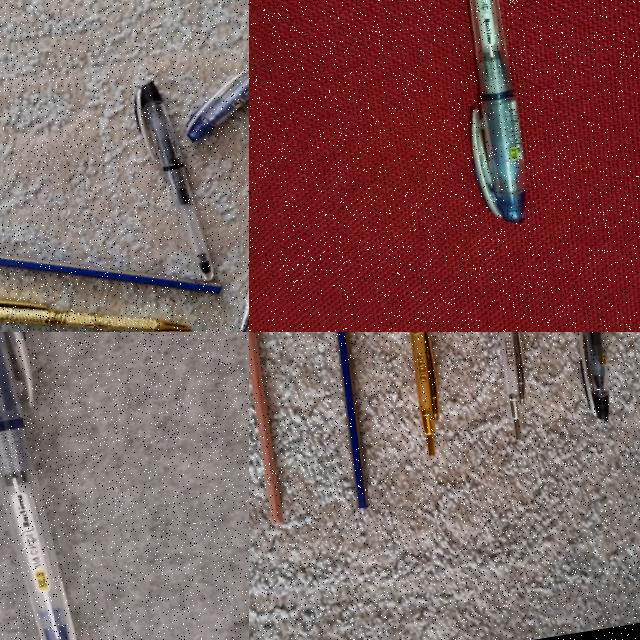pen: (0, 332, 75, 639), (133, 77, 216, 286), (470, 0, 525, 222), (172, 0, 249, 139), (545, 332, 628, 420)
pencil: (306, 332, 382, 513), (0, 254, 222, 293), (249, 332, 291, 514)
signature pen: (0, 264, 197, 332), (385, 332, 447, 445), (216, 135, 249, 330), (499, 332, 525, 439)
